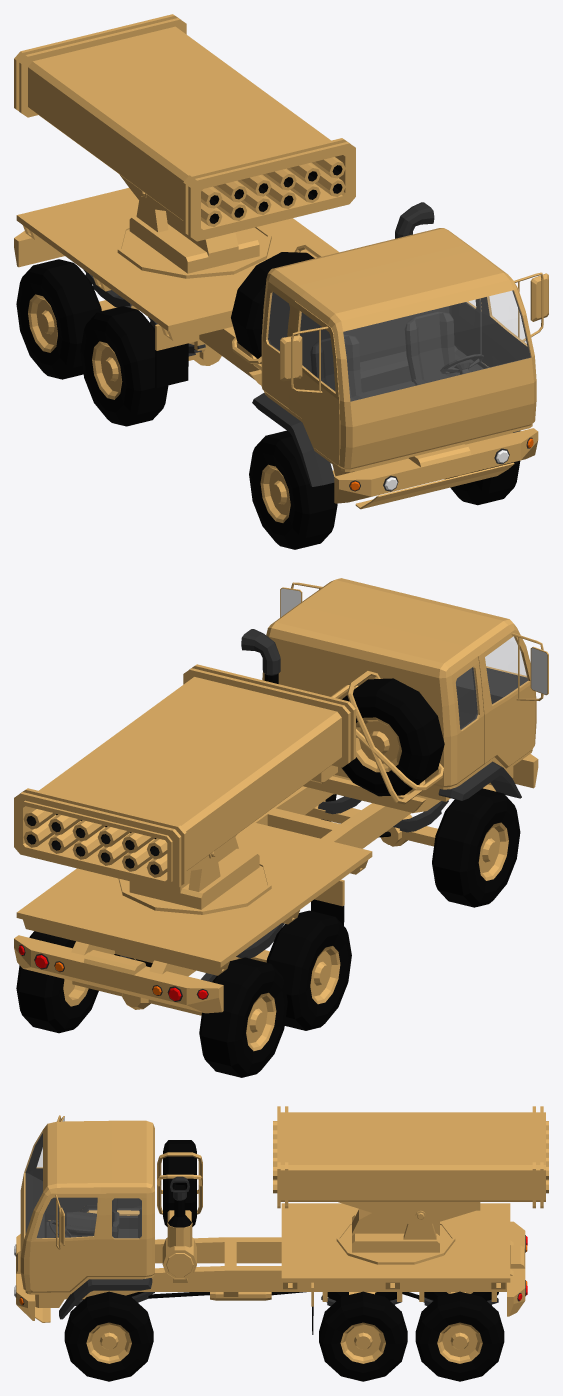
The picture shows the model from 3 angles, top to bottom: view 1: azimuth 30°, elevation 25°; view 2: azimuth 150°, elevation 25°; view 3: azimuth 270°, elevation 25°; orthographic projection. The views are drawn at different scales.
Visible parts, largest first — view 1: Plane.002, Plane.004, Plane.001, Plane.005, Cylinder.002, Cylinder.006, Cylinder.004, Plane.003, Plane, Plane.007, Plane.006, Cylinder.007; view 2: Plane.002, Plane.004, Plane, Cylinder.004, Cylinder.006, Cylinder.002, Plane.003, Cylinder.003, Plane.007, Plane.005, Plane.001, Plane.006; view 3: Plane.002, Plane.004, Plane.006, Cylinder.003, Cylinder.007, Cylinder.005, Plane, Plane.005, Plane.007, Plane.001, Plane.003.
Boxes of the visible parts, <box> form: Plane.002: <box>14,188,538,509</box>; Plane.004: <box>14,14,355,241</box>; Plane.001: <box>268,291,530,400</box>; Plane.005: <box>268,290,530,401</box>; Cylinder.002: <box>80,306,168,426</box>; Cylinder.006: <box>16,259,101,379</box>; Cylinder.004: <box>249,430,337,549</box>; Plane.003: <box>280,301,340,465</box>; Plane: <box>99,202,434,476</box>; Plane.007: <box>129,201,259,273</box>; Plane.006: <box>481,272,548,367</box>; Cylinder.007: <box>444,460,520,505</box>; Plane.002: <box>14,578,538,1013</box>; Plane.004: <box>14,664,355,891</box>; Plane: <box>72,629,444,1015</box>; Cylinder.004: <box>432,788,520,907</box>; Cylinder.006: <box>199,957,287,1077</box>; Cylinder.002: <box>266,910,351,1030</box>; Plane.003: <box>478,630,548,766</box>; Cylinder.003: <box>16,931,98,1033</box>; Plane.007: <box>129,837,259,909</box>; Plane.005: <box>456,667,527,729</box>; Plane.001: <box>456,637,525,729</box>; Plane.006: <box>280,582,322,617</box>; Plane.002: <box>14,1120,527,1334</box>; Plane.004: <box>273,1106,548,1225</box>; Plane.006: <box>29,1193,106,1291</box>; Cylinder.003: <box>415,1291,504,1381</box>; Cylinder.007: <box>64,1291,153,1381</box>; Cylinder.005: <box>319,1291,407,1381</box>; Plane: <box>127,1140,465,1300</box>; Plane.005: <box>25,1133,141,1238</box>; Plane.007: <box>352,1209,439,1252</box>; Plane.001: <box>25,1131,141,1237</box>; Plane.003: <box>30,1115,97,1220</box>.
Bounding box in the file's own units: 304 × 300 × 697.
